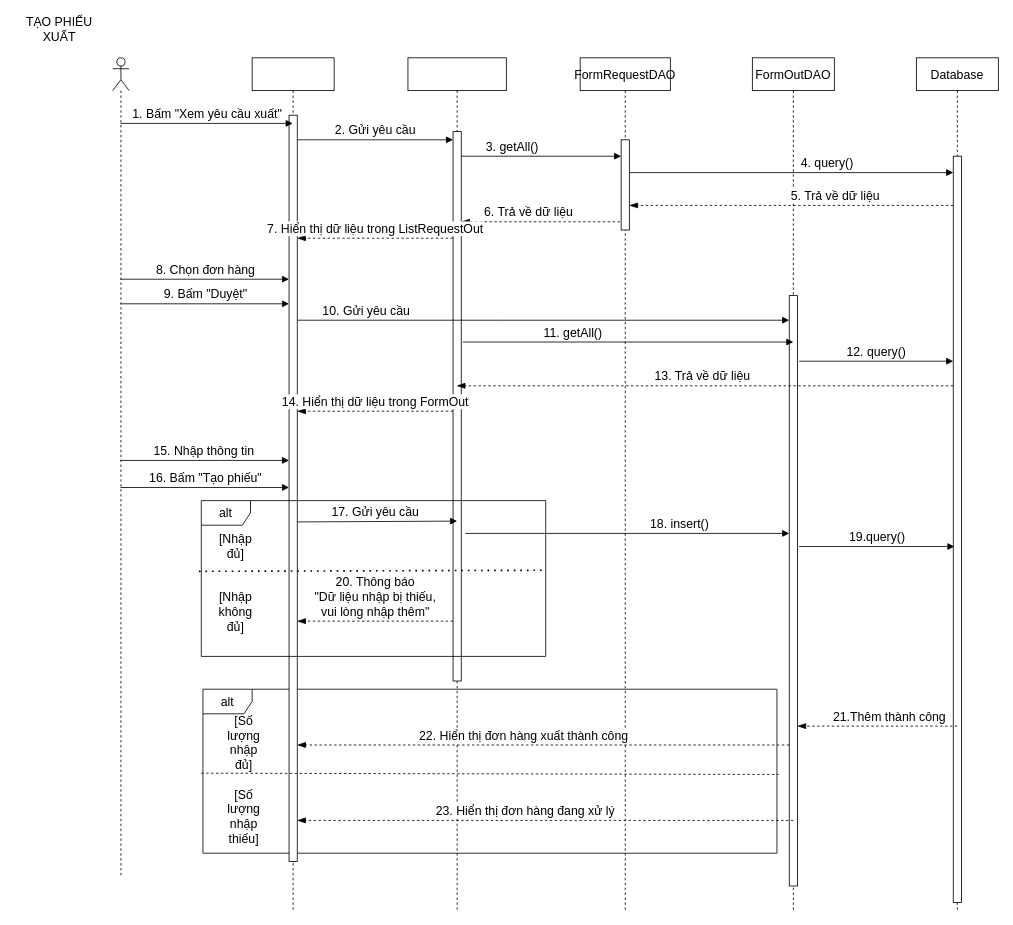
Some shapes in this 1013 by 925 pixel diagram are drawn without their labels. Here are the shapes that lost their labels. From the top down, the box of each, then its label:
(251, 57, 334, 911): View
(407, 57, 506, 911): Controller
